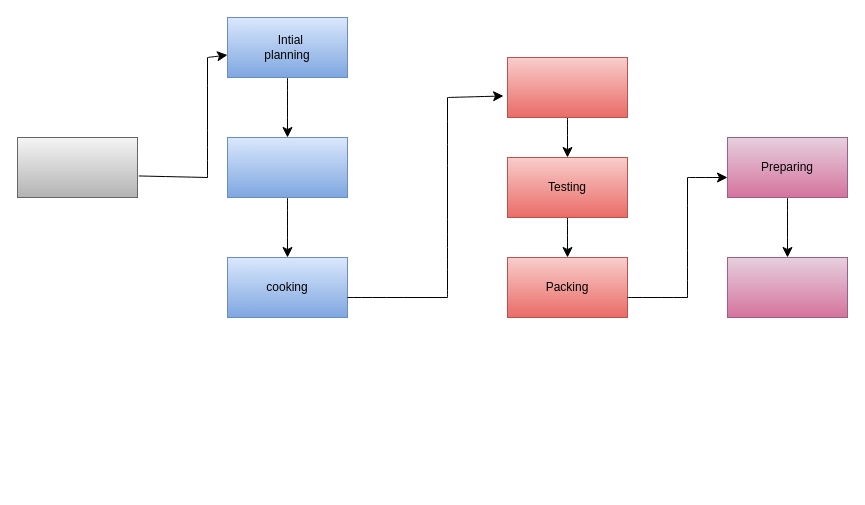
The diagram is 865 pixels wide and 505 high, and some of its shapes have lost their labels. Here are the shapes that lost their labels. From the top down, the centre of each, then its label:
At point 567,87: "Dish is set aside to cool".
At point 77,167: "Order recevied online".
At point 287,167: "Collecting requsite material".
